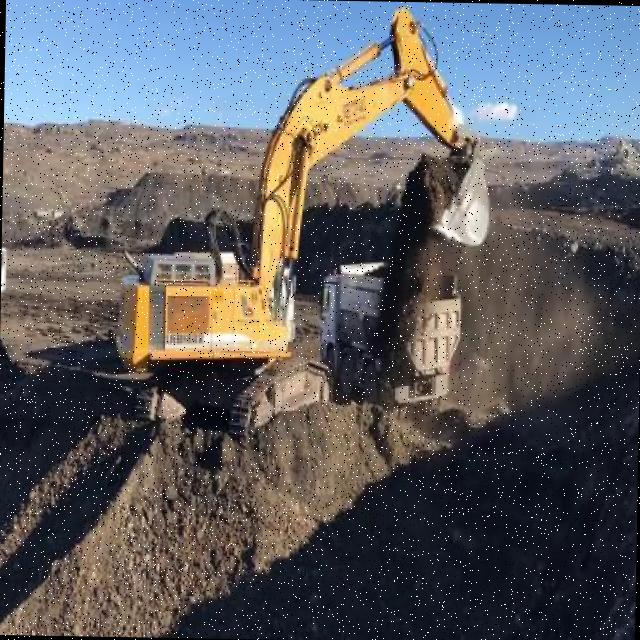Dump Truck: (316, 261, 459, 413), (0, 223, 27, 324)
Excavator: (104, 1, 497, 457)
